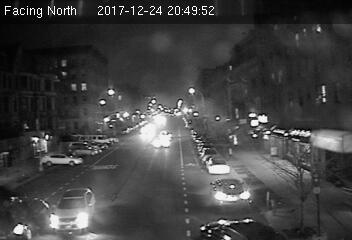car: (48, 187, 96, 234), (209, 177, 253, 208), (207, 157, 230, 174), (152, 136, 171, 150)
